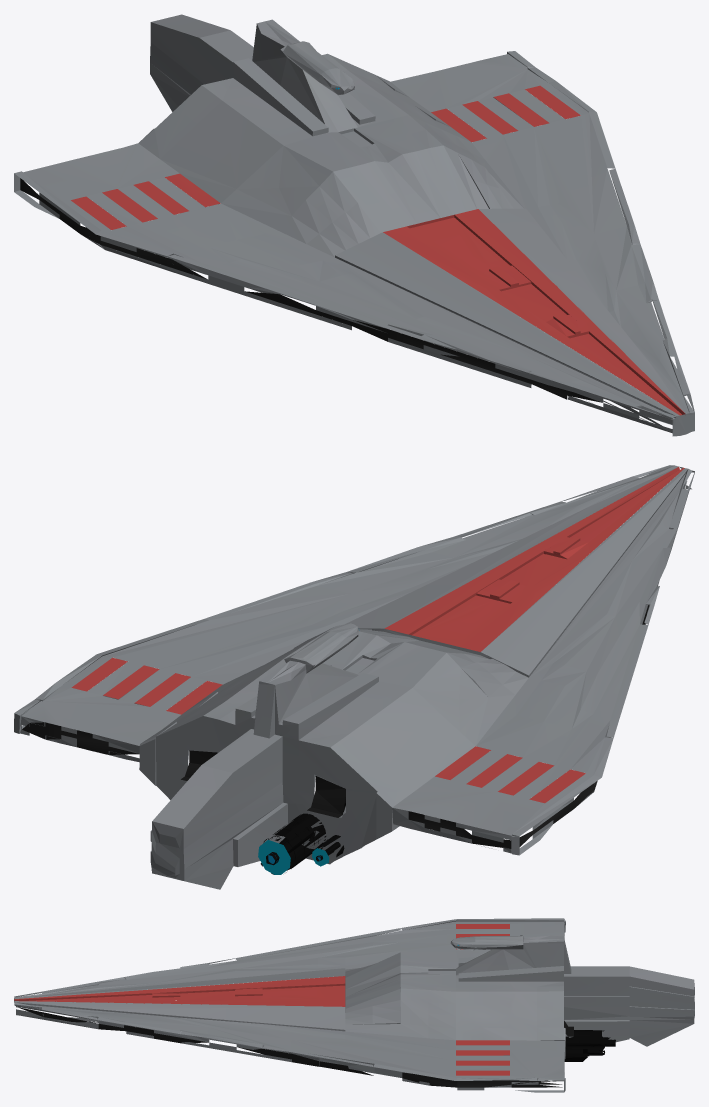
The model's file is acclamator.glb.
3 renders of one model, top to bottom at view 1: azimuth 30°, elevation 25°; view 2: azimuth 150°, elevation 25°; view 3: azimuth 270°, elevation 25°, orthographic. The views are drawn at different scales.
Parts seen in each view (by area): view 1: acclamator; view 2: acclamator; view 3: acclamator.
Boxes of the visible parts, box(x1,y1,x2,y2) form: acclamator: box(14, 14, 694, 436); acclamator: box(14, 465, 694, 889); acclamator: box(14, 918, 694, 1092).
Bounding box in the file's own units: 11.44 × 3.63 × 20.31.
